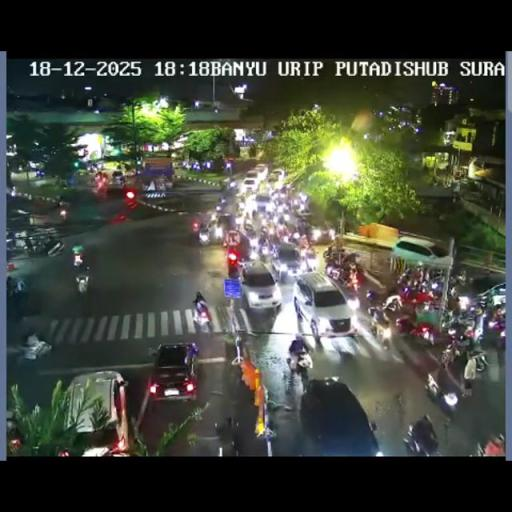Car: (299, 378, 380, 454), (64, 371, 134, 455), (294, 272, 355, 339), (148, 342, 200, 402), (238, 260, 282, 311), (391, 236, 451, 267), (270, 242, 302, 281), (140, 158, 174, 190), (213, 213, 239, 246), (105, 171, 126, 193), (254, 191, 272, 213), (242, 176, 259, 192), (268, 168, 284, 182), (254, 164, 268, 178)
Motorcycle: (376, 264, 502, 362), (238, 182, 312, 251), (286, 334, 308, 401), (423, 372, 458, 414), (403, 415, 439, 455), (366, 306, 394, 348), (326, 328, 360, 358), (407, 318, 441, 346), (462, 344, 488, 378), (191, 296, 213, 334), (18, 335, 51, 360), (214, 420, 236, 456), (450, 306, 480, 332), (474, 431, 504, 455), (439, 338, 461, 366), (325, 257, 348, 281), (300, 246, 318, 274), (6, 276, 28, 298), (342, 285, 360, 311), (397, 268, 418, 290), (382, 292, 402, 314), (459, 370, 473, 400), (394, 314, 414, 334), (241, 194, 257, 218), (226, 254, 240, 280), (74, 270, 89, 294), (494, 321, 506, 349), (6, 411, 19, 436), (450, 270, 468, 288), (46, 239, 64, 257), (473, 294, 489, 314), (427, 276, 444, 294), (341, 250, 359, 267), (447, 292, 462, 312), (198, 222, 211, 244), (24, 237, 39, 256), (242, 216, 256, 234), (275, 222, 289, 240), (288, 196, 302, 214), (257, 234, 269, 254), (302, 221, 314, 241), (6, 244, 18, 262), (95, 177, 107, 195), (366, 289, 380, 304), (323, 246, 336, 261), (215, 198, 226, 213), (73, 254, 83, 268), (266, 224, 276, 238), (282, 182, 292, 195), (368, 418, 377, 432), (226, 178, 236, 190), (327, 227, 335, 241), (291, 230, 300, 242), (59, 207, 67, 220), (6, 186, 16, 196)
